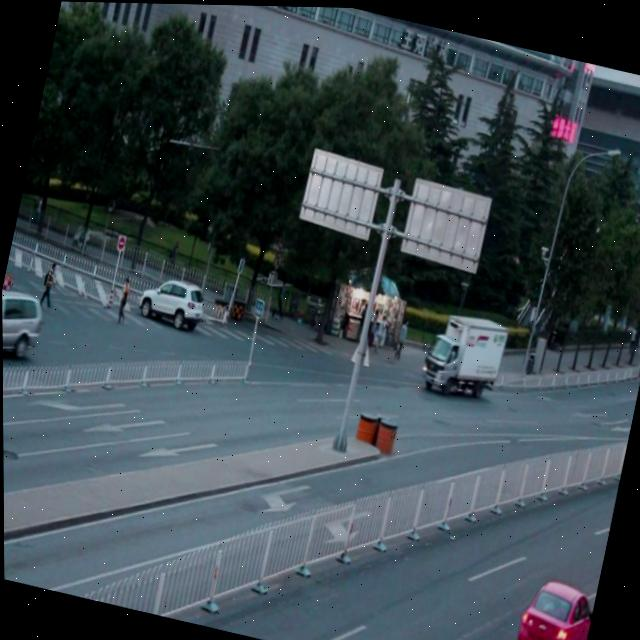bus: (417, 305, 508, 404)
car: (506, 570, 596, 640), (134, 268, 207, 331), (2, 285, 46, 370)
